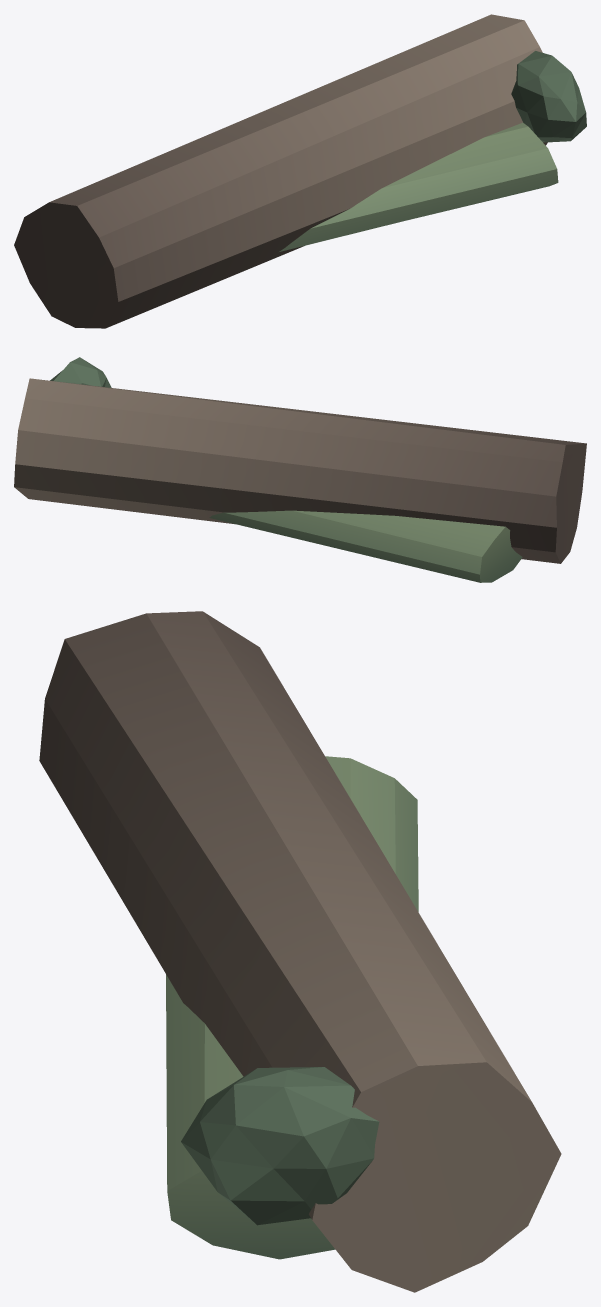
Rendered from fallen_log.glb.
The picture shows the model from 3 angles, top to bottom: view 1: azimuth 30°, elevation 25°; view 2: azimuth 150°, elevation 25°; view 3: azimuth 270°, elevation 25°; orthographic projection. The views are drawn at different scales.
Visible parts, largest first — view 1: fallen_log; view 2: fallen_log; view 3: fallen_log.
Boxes of the visible parts, x1=… form: fallen_log: x1=14, y1=14, x2=586, y2=328; fallen_log: x1=14, y1=357, x2=586, y2=582; fallen_log: x1=39, y1=611, x2=561, y2=1292.
Bounding box in the file's own units: 4.85 × 1.04 × 2.17.
